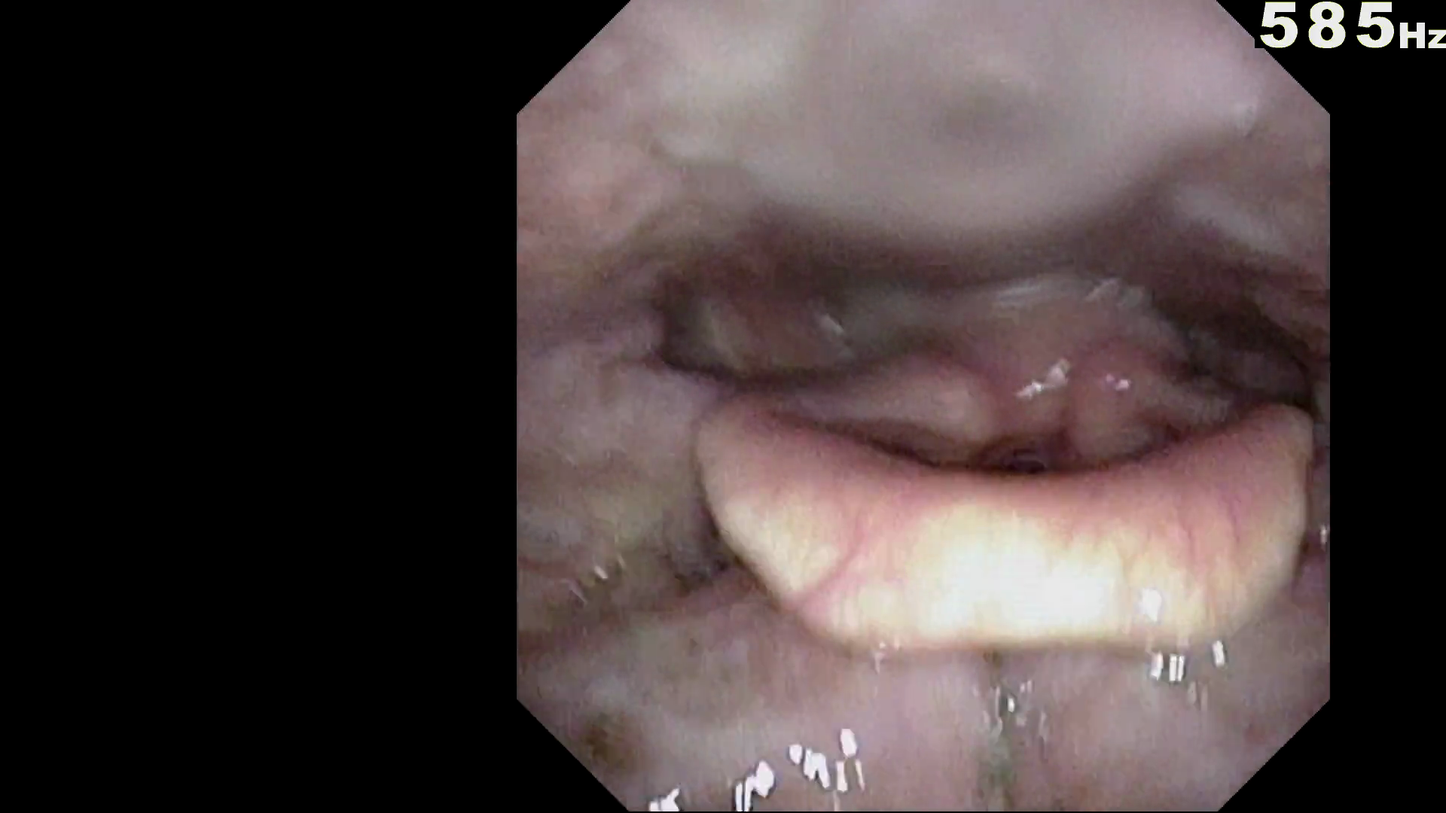epiglottis: (690, 395, 1325, 673)
trachea: (989, 432, 1050, 511)
